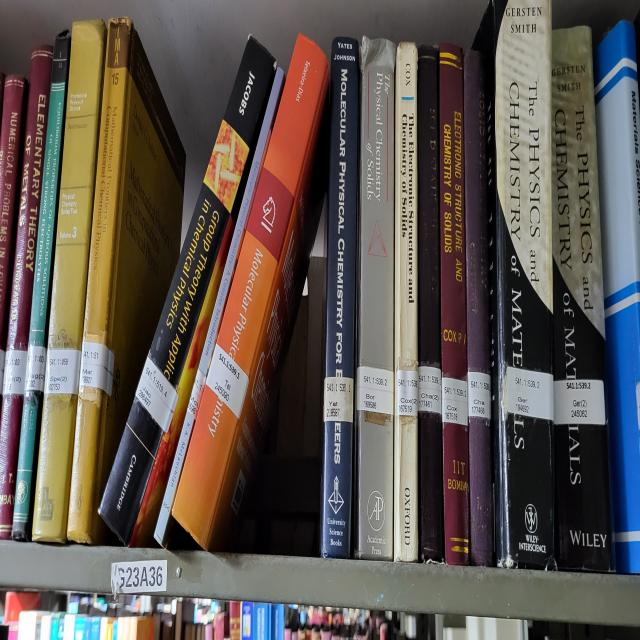Book: (100, 38, 274, 547), (174, 35, 329, 552), (68, 19, 186, 544), (475, 0, 556, 568), (32, 19, 106, 544), (551, 27, 615, 571), (12, 32, 71, 541), (0, 49, 52, 538), (355, 38, 395, 560), (321, 38, 359, 557), (439, 43, 469, 565), (464, 51, 494, 565), (418, 46, 444, 563), (394, 43, 418, 563)
Label: (136, 357, 178, 433), (206, 344, 249, 417), (506, 365, 554, 419), (554, 379, 605, 425), (356, 365, 394, 414), (80, 341, 114, 395), (45, 349, 81, 395), (324, 376, 354, 422), (442, 376, 468, 425), (2, 349, 28, 395), (468, 371, 491, 419), (419, 365, 441, 414), (395, 371, 418, 417), (25, 344, 46, 392)
